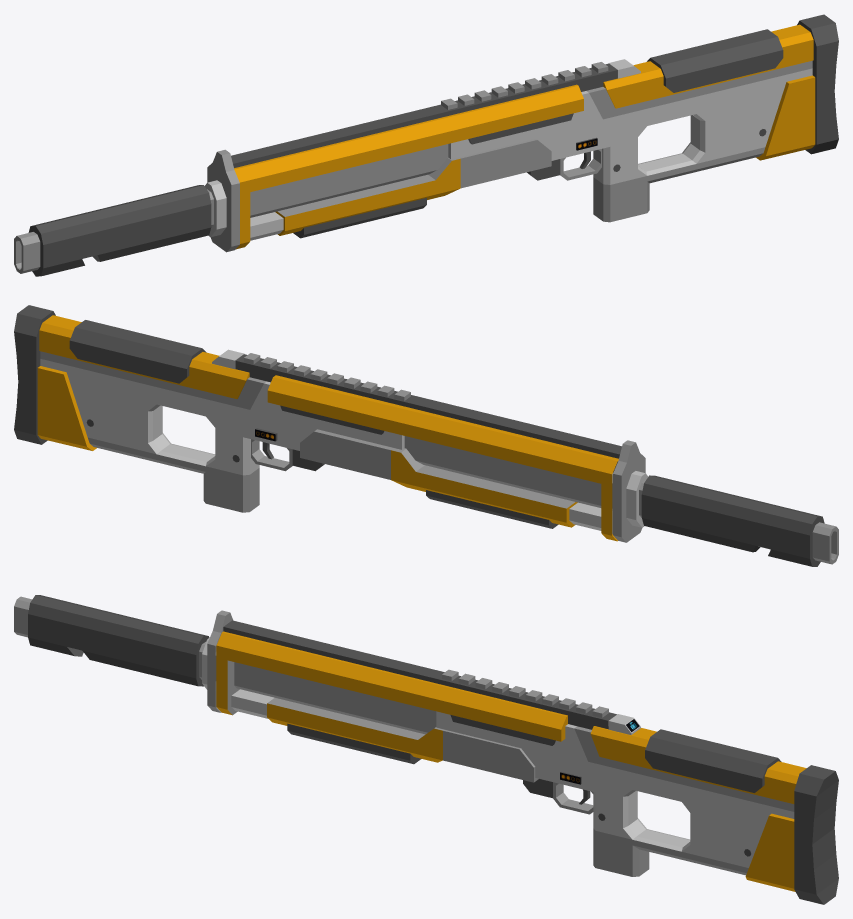
3 renders of one model, top to bottom at view 1: azimuth 30°, elevation 25°; view 2: azimuth 150°, elevation 25°; view 3: azimuth 330°, elevation 25°, orthographic.
Visible parts, largest first — view 1: SM_SR01; view 2: SM_SR01; view 3: SM_SR01.
Part boxes in pixels (x1,y1,x2,y2): SM_SR01: [14, 14, 838, 276]; SM_SR01: [14, 305, 838, 566]; SM_SR01: [14, 595, 838, 904].
Bounding box in the file's own units: 111 × 20.61 × 5.92.
6 materials, 1 textured.
